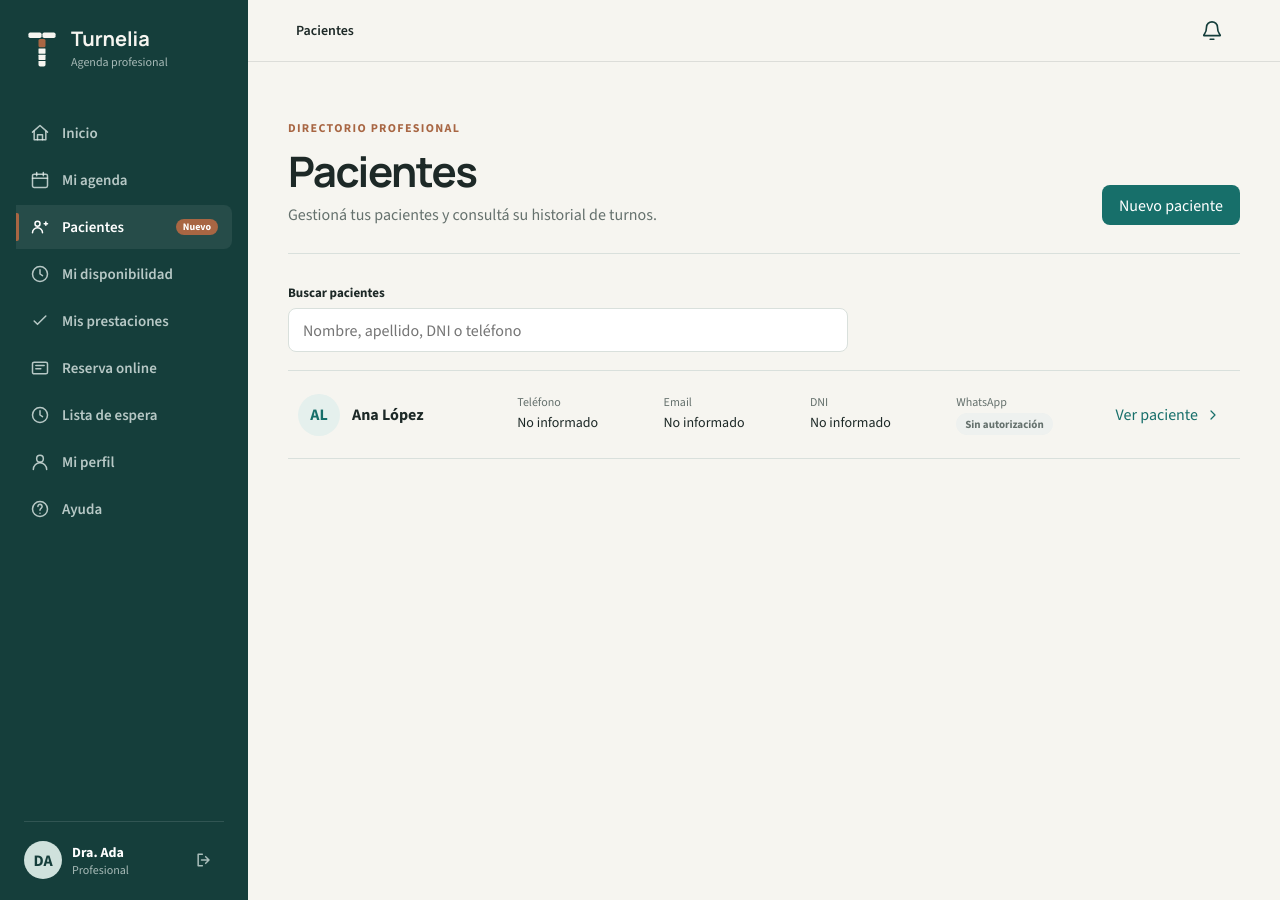
Pacientes profesional › muestra estado vacío y abre el formulario
Click the button "Ver paciente". click: [1168, 414]
box: [1106,398,1230,432]
(page scrolled)
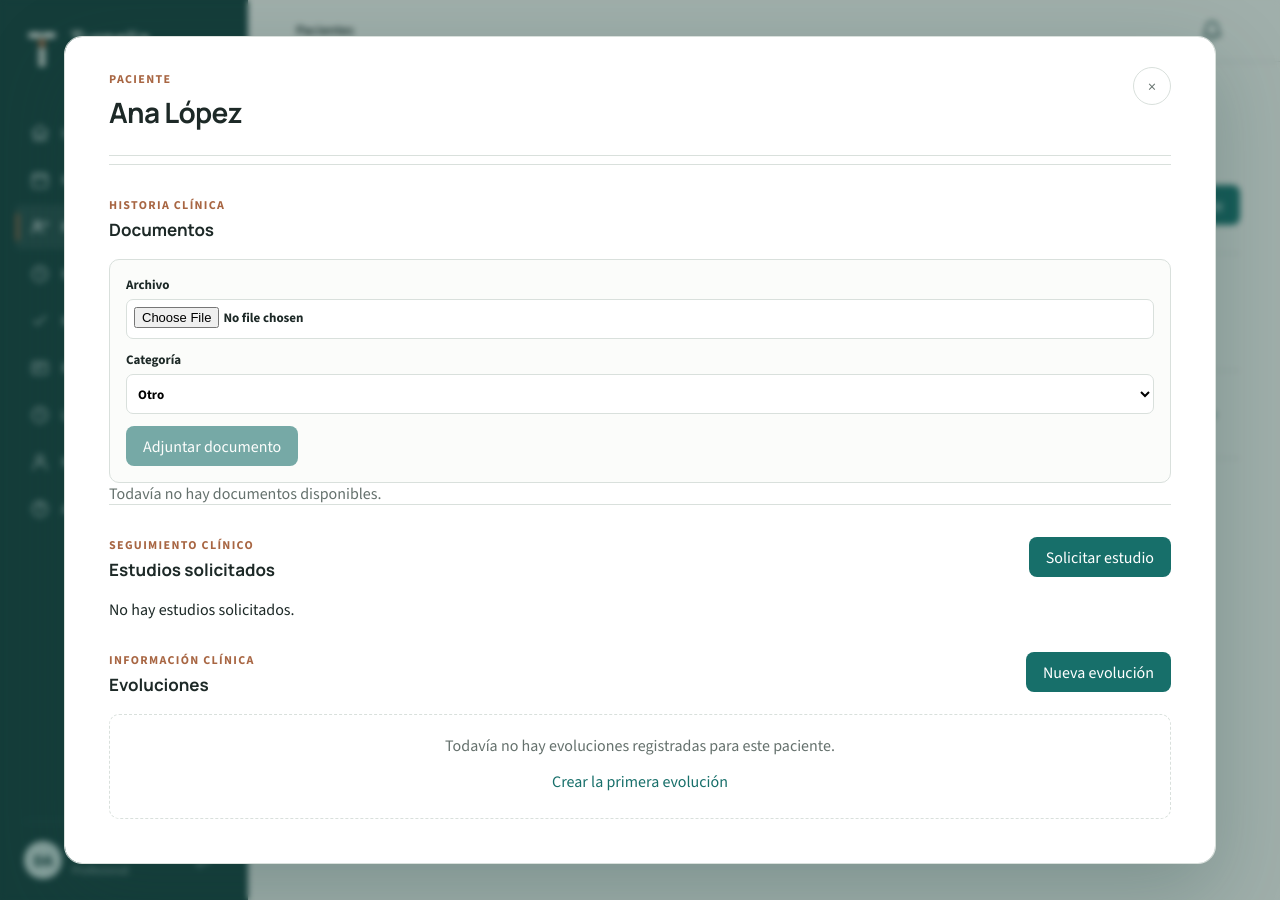
Now the text "Todavía no hay evoluciones registradas para este paciente." is shown, box [445,735,835,756]
Click the button "Crear la primera evolución". click: [640, 781]
box: [543,764,737,798]
(page scrolled)
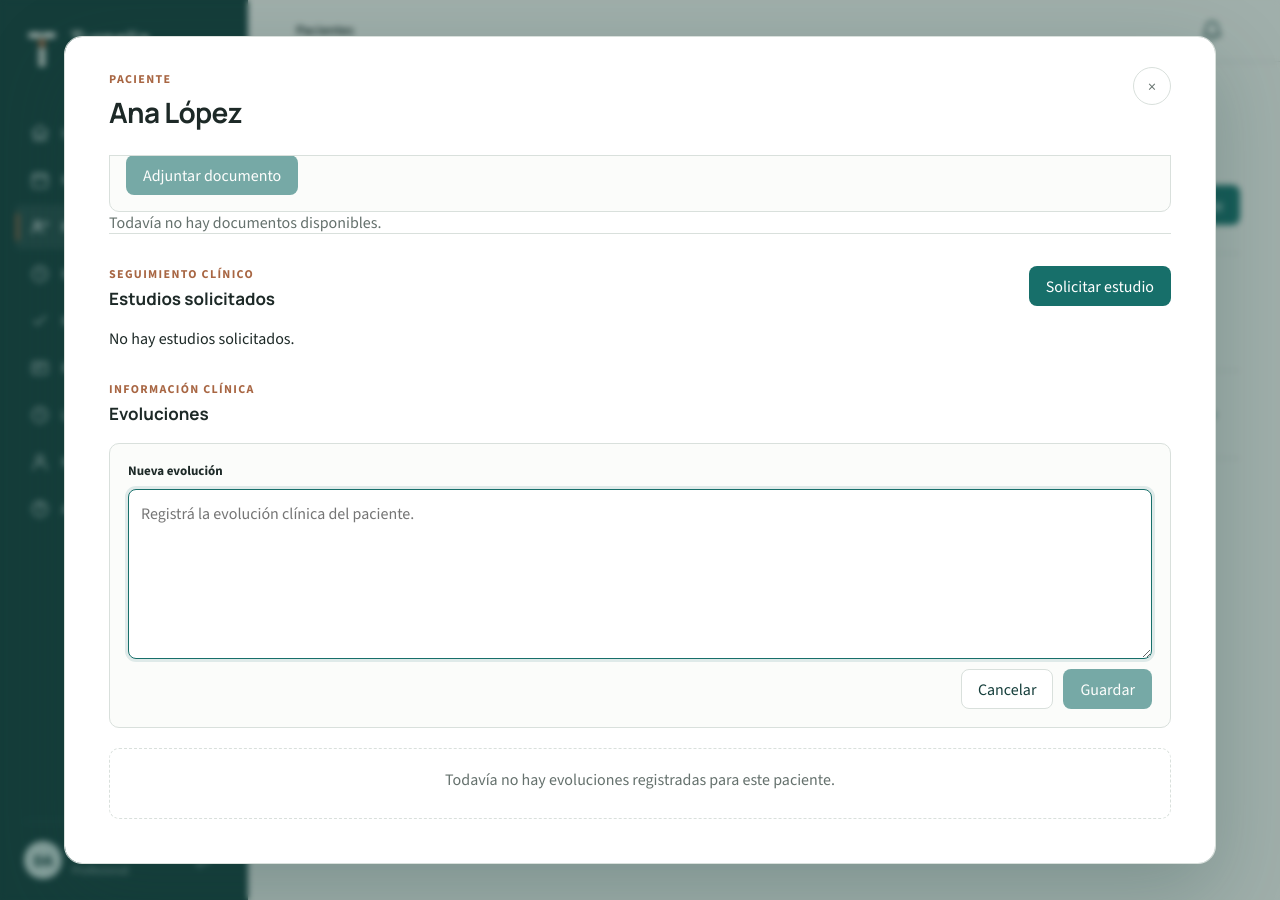
Now the text box labelled "Nueva evolución" is shown, box [128,489,1152,659]
